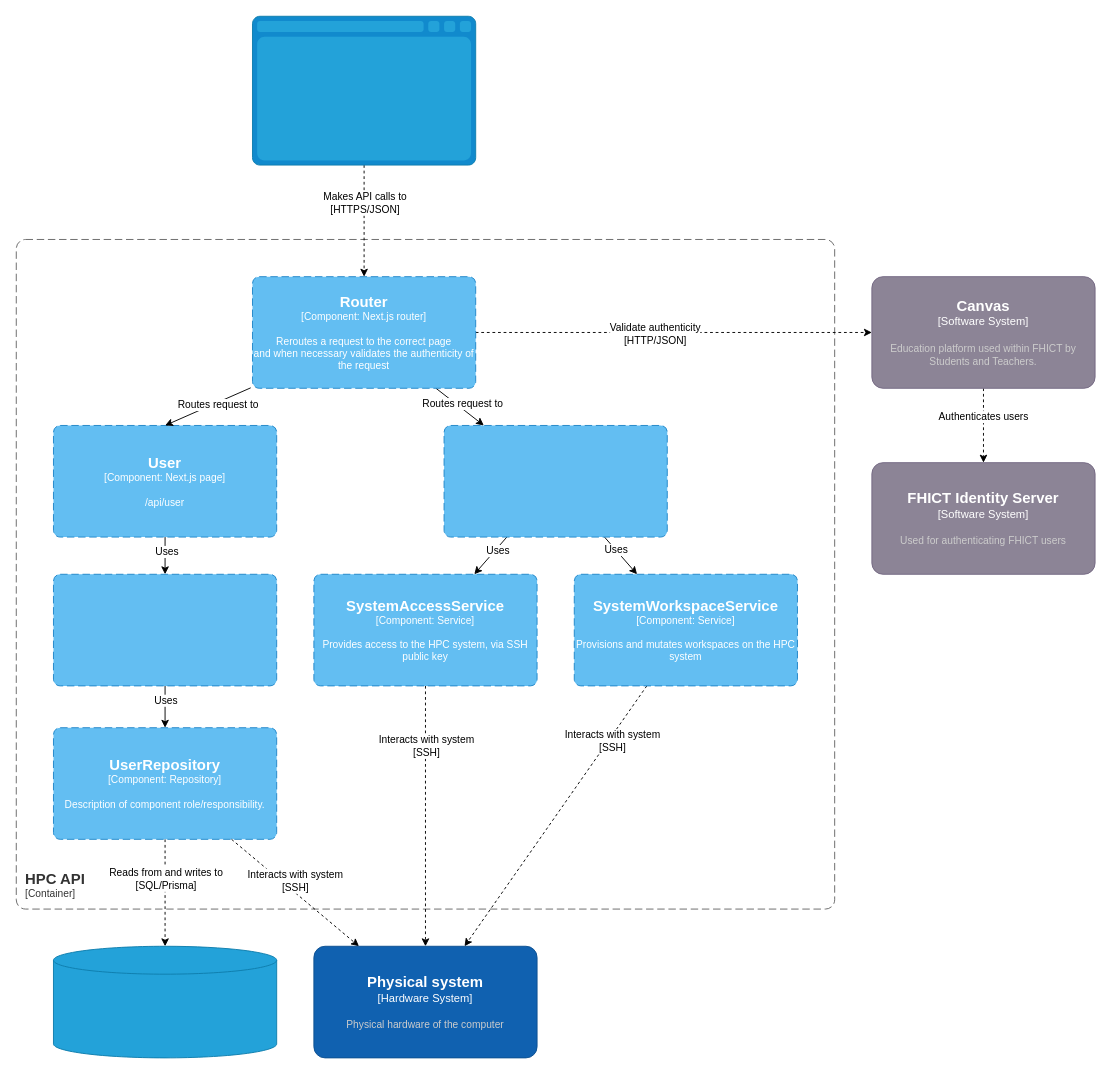
Some shapes in this 1111 by 1074 pixel diagram are drawn without their labels. The centre of each missing label's shape, as x and y in pixels:
"Database [Container : MariaDB] General database storage" belongs at (x=165, y=1001).
"HPC Controlcenter [Container : Next.js] Control center for the end users" belongs at (x=364, y=90).
"System [Component: Next.js page] /api/system" belongs at (x=555, y=481).
"UserService [Component: Service] Services users" belongs at (x=165, y=629).
